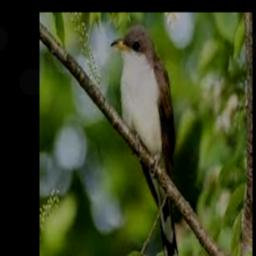Cuckoo: (111, 25, 183, 256)
